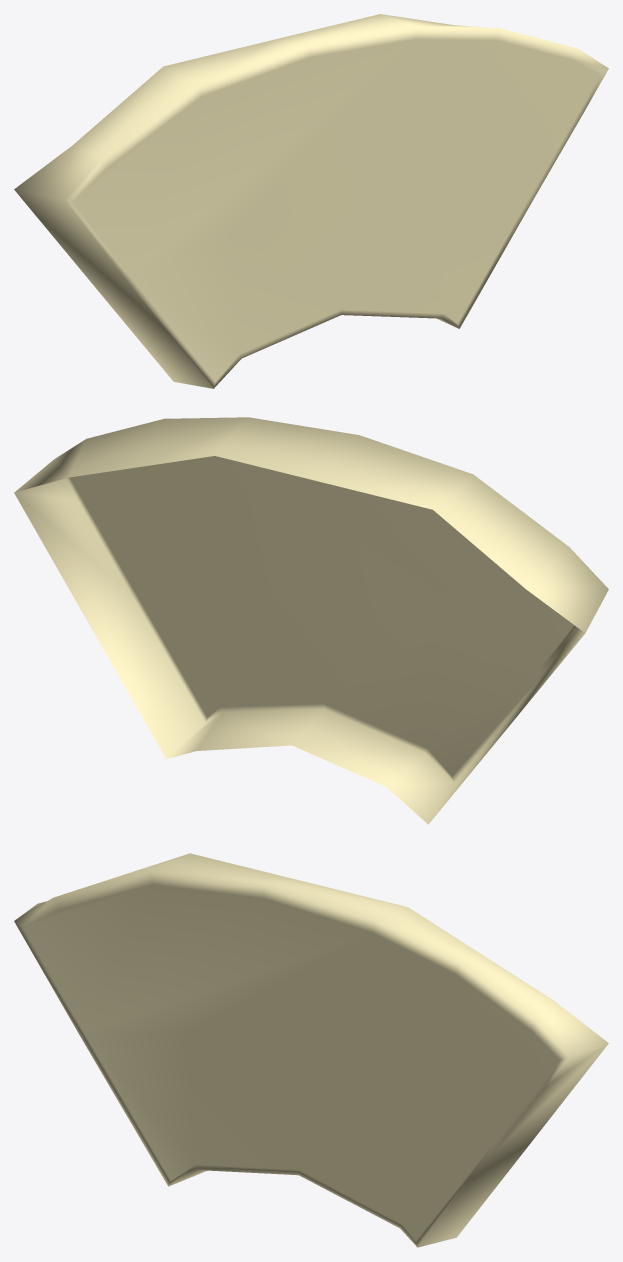
File: ui_radialMenu_5_top.glb
The picture shows the model from 3 angles, top to bottom: view 1: azimuth 30°, elevation 25°; view 2: azimuth 150°, elevation 25°; view 3: azimuth 330°, elevation 25°; orthographic projection.
Parts seen in each view (by area): view 1: main5_top; view 2: main5_top; view 3: main5_top.
Part boxes in pixels (x1,y1,x2,y2): main5_top: (14, 14, 608, 388); main5_top: (14, 417, 608, 824); main5_top: (14, 853, 608, 1247).
Size of the model in its own units: 1.15 by 0.6548 by 0.1328.
